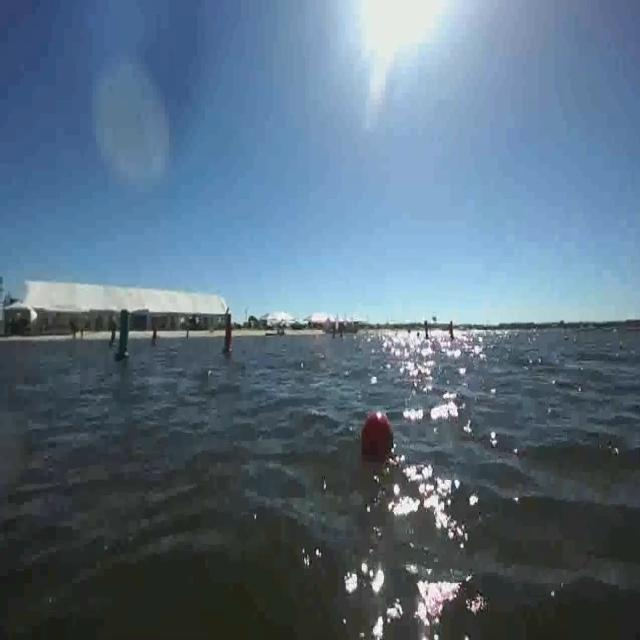green-column-buoy: (115, 308, 133, 362)
red-buoy: (358, 405, 395, 469)
red-column-buoy: (221, 317, 235, 357), (150, 324, 158, 344)
